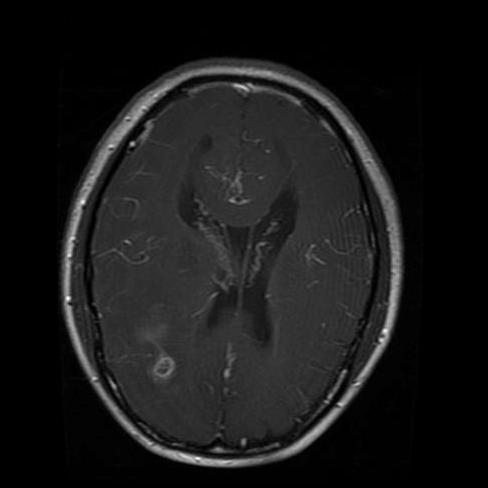Tumour-Glioma: (125, 323, 184, 397)
